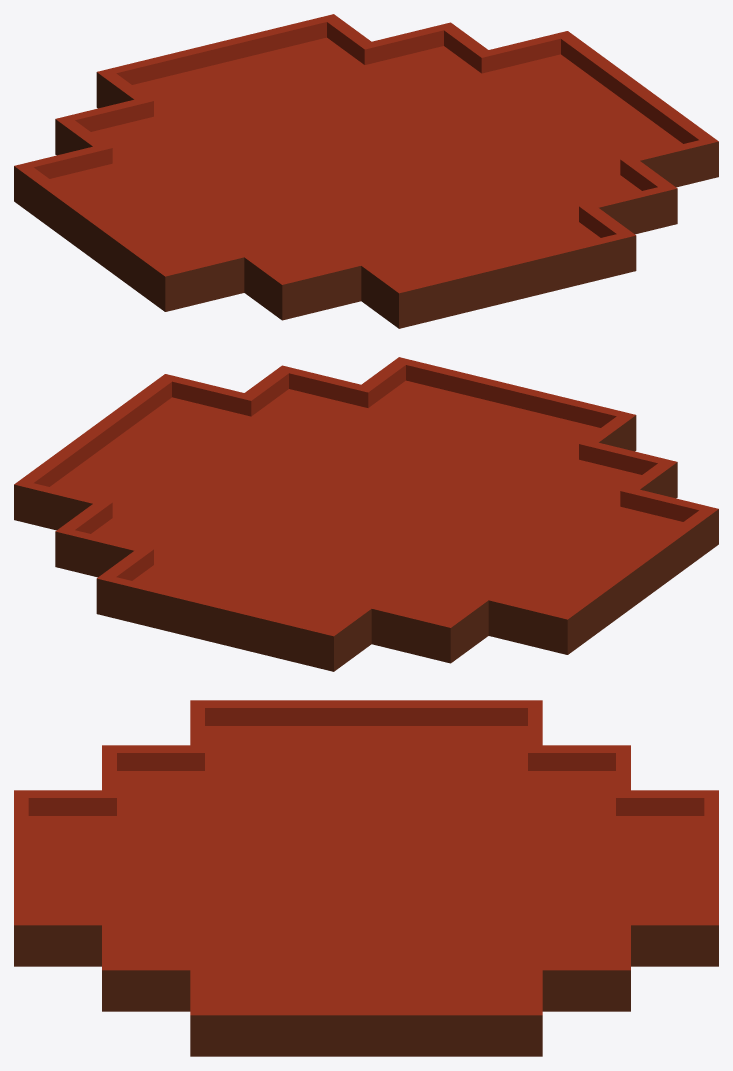
Rendered from LilypadRed.fbx.
3 renders of one model, top to bottom at view 1: azimuth 30°, elevation 25°; view 2: azimuth 150°, elevation 25°; view 3: azimuth 270°, elevation 25°, orthographic. The views are drawn at different scales.
Parts seen in each view (by area): view 1: LilyPadFullR; view 2: LilyPadFullR; view 3: LilyPadFullR.
Boxes of the visible parts, <box> form: LilyPadFullR: <box>14,14,718,328</box>; LilyPadFullR: <box>14,357,718,671</box>; LilyPadFullR: <box>14,700,718,1056</box>.
Size of the model in its own units: 280 by 17.17 by 265.
